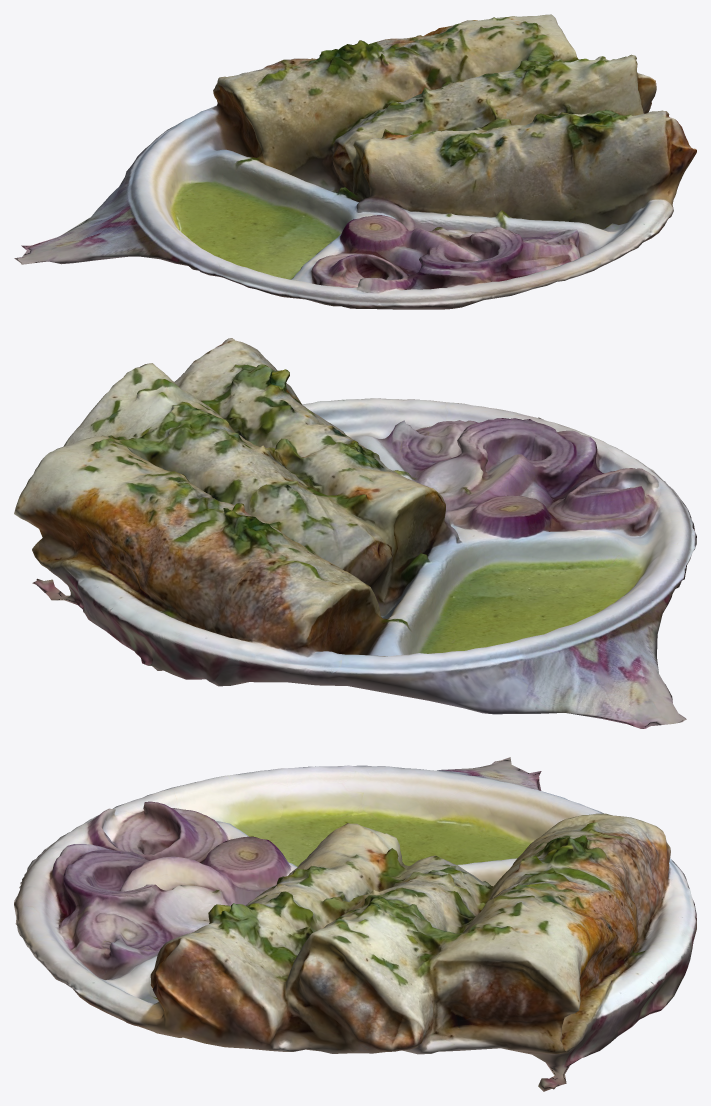
File: chillychicken.glb
3 views of the same model, one above another, from view 1: azimuth 30°, elevation 25°; view 2: azimuth 150°, elevation 25°; view 3: azimuth 270°, elevation 25° (orthographic). The views are drawn at different scales.
Parts seen in each view (by area): view 1: chillychicken.usdz; view 2: chillychicken.usdz; view 3: chillychicken.usdz.
Boxes of the visible parts, bbox=[...] form: chillychicken.usdz: bbox=[14, 14, 696, 309]; chillychicken.usdz: bbox=[14, 338, 696, 728]; chillychicken.usdz: bbox=[14, 757, 696, 1091].
Bounding box in the file's own units: 0.3189 × 0.067 × 0.2585.
1 material, 1 textured.
